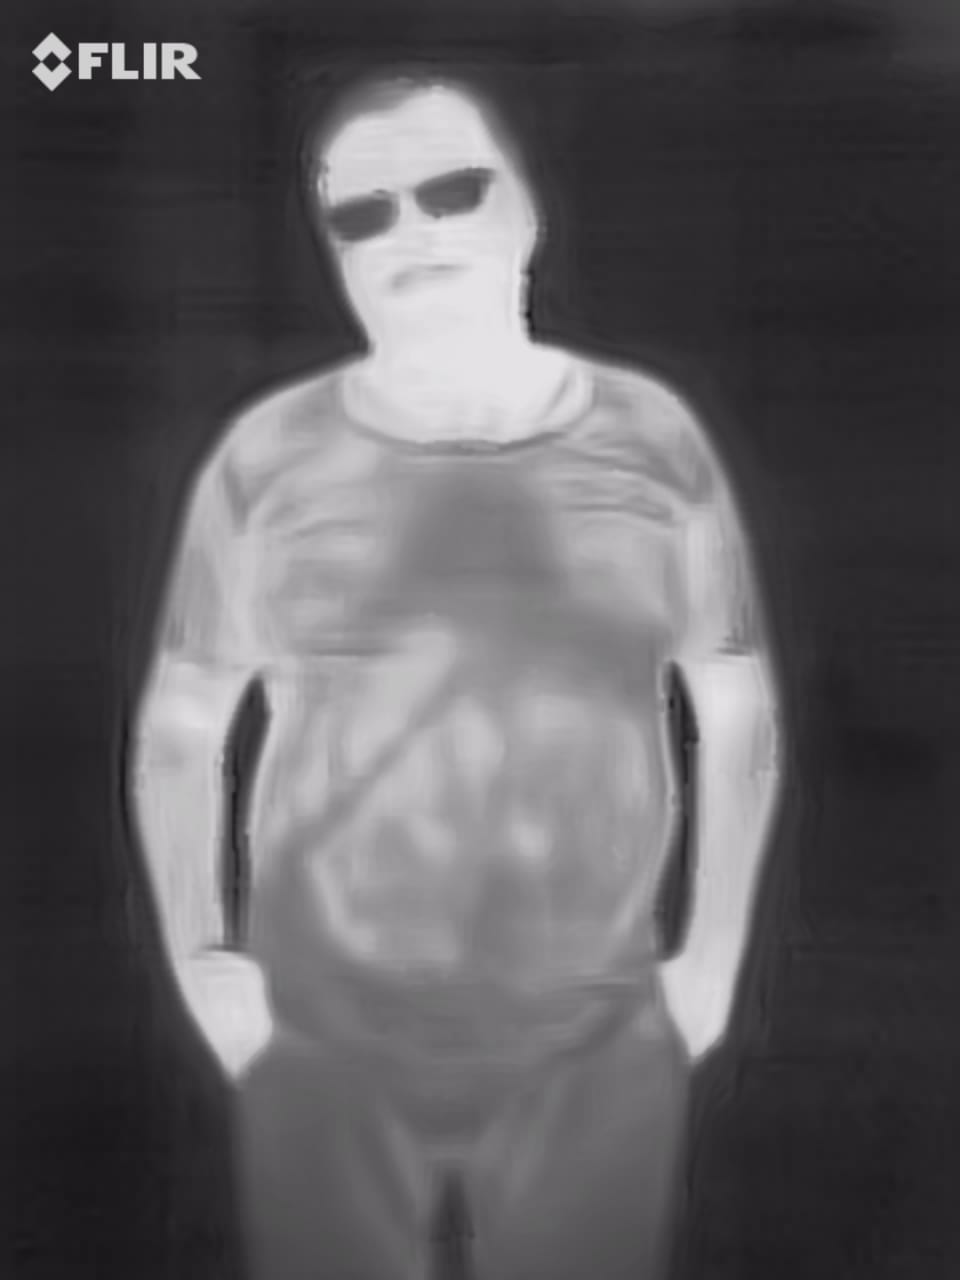head: (295, 73, 560, 357)
